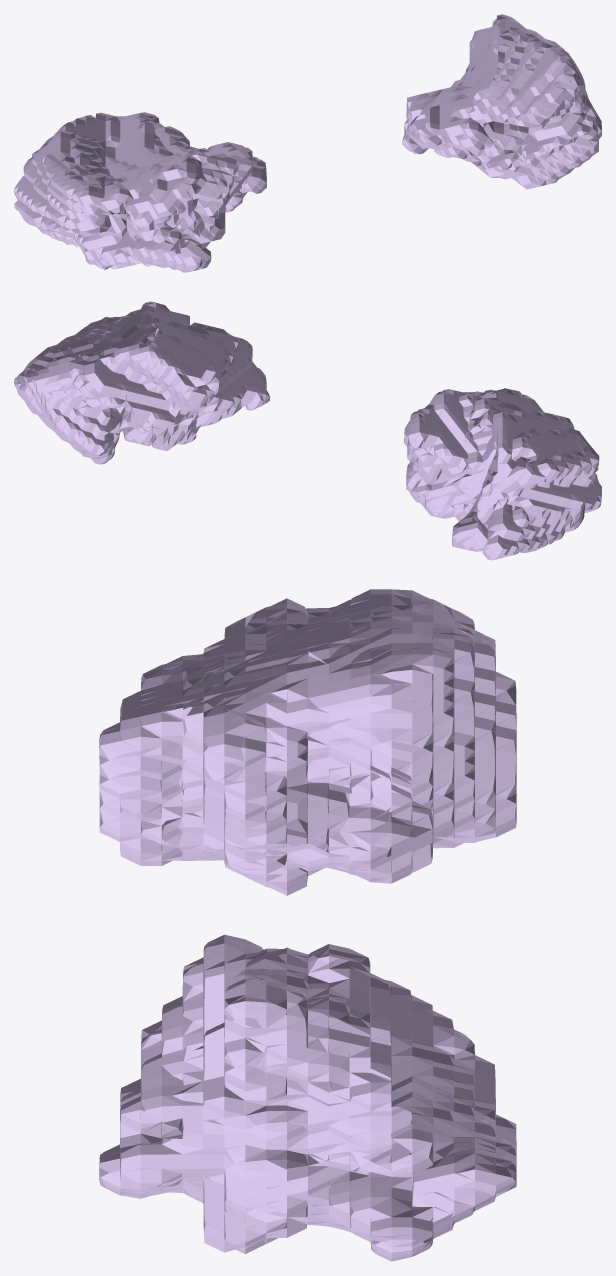
The model's file is VFB_00102154.glb.
3 views of the same model, one above another, from view 1: azimuth 30°, elevation 25°; view 2: azimuth 150°, elevation 25°; view 3: azimuth 270°, elevation 25° (orthographic). The views are drawn at different scales.
Parts seen in each view (by area): view 1: VFB_00102154; view 2: VFB_00102154; view 3: VFB_00102154.
Boxes of the visible parts, box(x1,y1,x2,y2) form: VFB_00102154: box(14, 14, 601, 272); VFB_00102154: box(14, 301, 601, 560); VFB_00102154: box(99, 589, 516, 1261).
Size of the model in its own units: 0.244 by 0.0603 by 0.0785.
